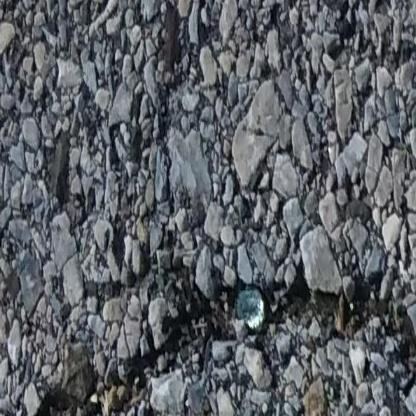Cracks: (18, 263, 416, 416)
